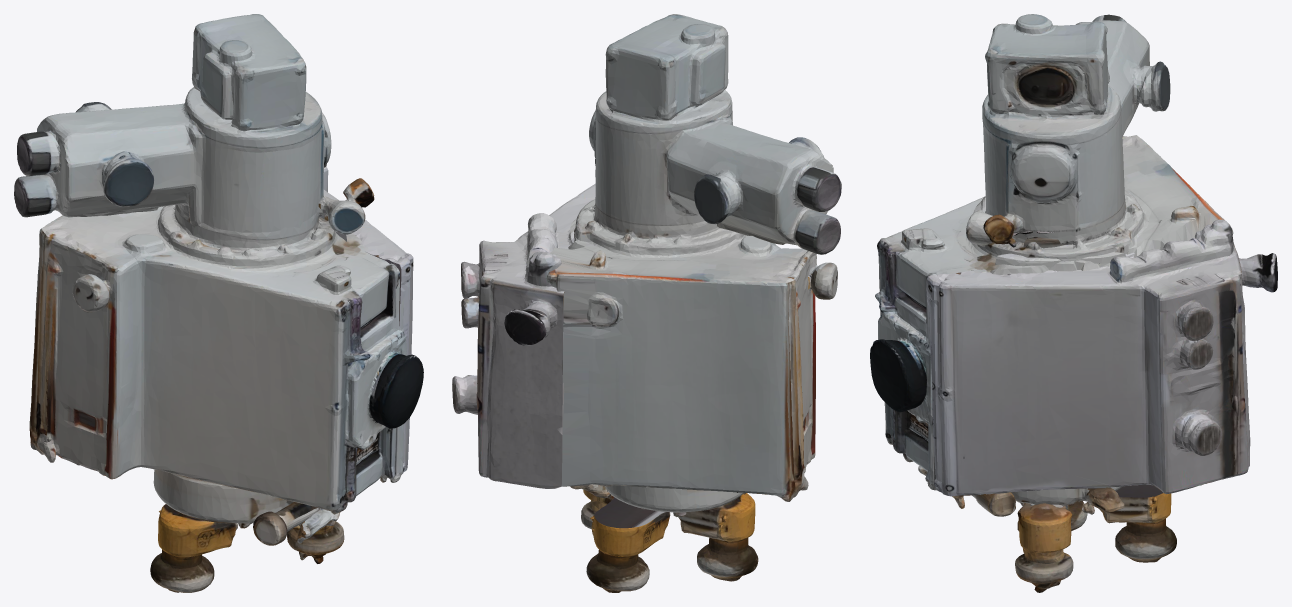
The picture shows the model from 3 angles, left to right: view 1: azimuth 30°, elevation 25°; view 2: azimuth 150°, elevation 25°; view 3: azimuth 270°, elevation 25°; orthographic projection. The views are drawn at different scales.
Parts seen in each view (by area): view 1: textured_mesh.obj.001; view 2: textured_mesh.obj.001; view 3: textured_mesh.obj.001.
Part boxes in pixels (<box>): textured_mesh.obj.001: <box>14,14,423,592</box>; textured_mesh.obj.001: <box>452,14,841,592</box>; textured_mesh.obj.001: <box>870,14,1277,592</box>.
Size of the model in its own units: 1.31 by 1.95 by 1.35.
4 materials, 4 textured.
